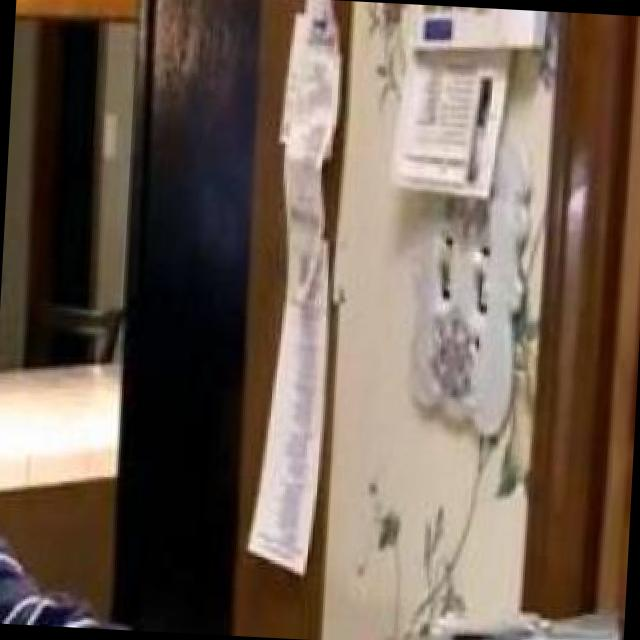Guns: (293, 567, 626, 640)
